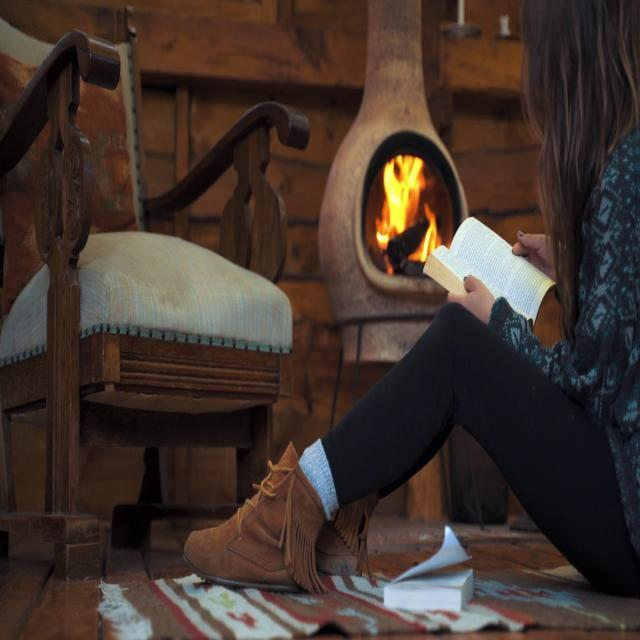Fire: (373, 150, 444, 276)
